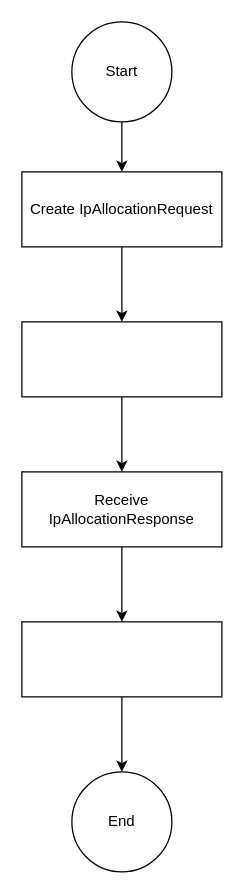
Image size: 244x894. Some labels were removed from this diagram. Each missing label, with the box of its shape:
Send Request to PHP IPAM: (21, 321, 222, 397)
Update Allocation Record: (21, 621, 222, 697)
